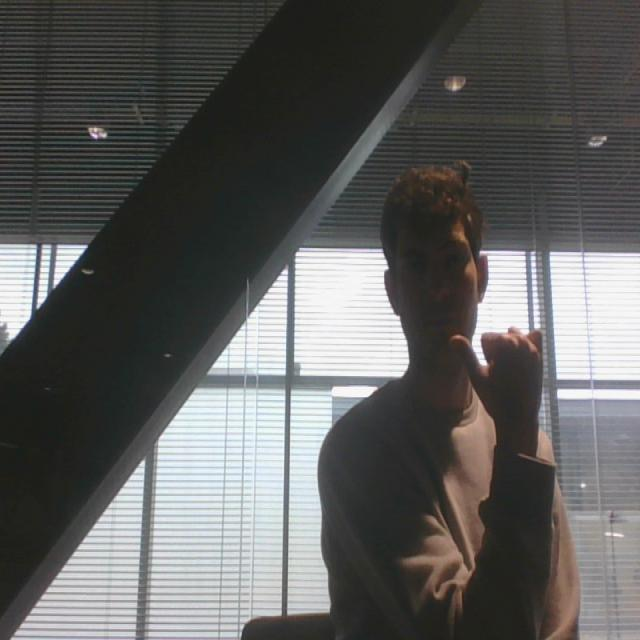left: (448, 314, 554, 440)
